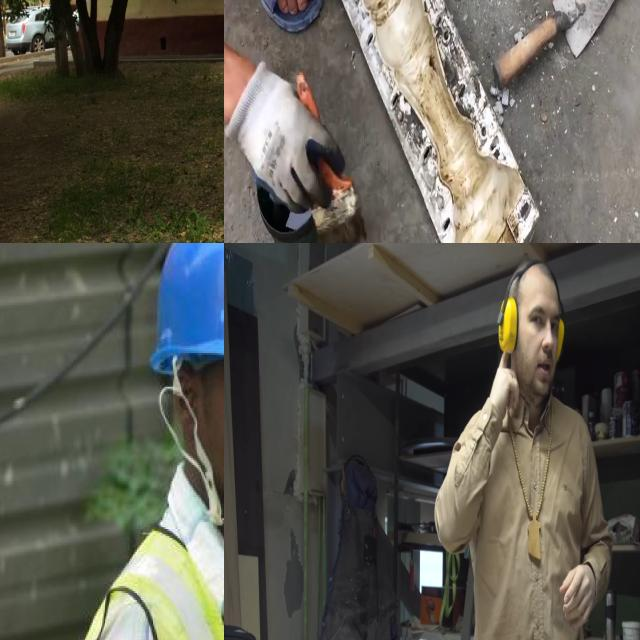Ear-protection: (498, 260, 568, 402)
No_Glasses: (525, 301, 560, 342)
Sandals: (224, 0, 321, 34)
hand_glove: (224, 53, 342, 209)
head_helmet: (146, 243, 224, 358)
person: (87, 243, 224, 640)
vest: (94, 511, 224, 640)
